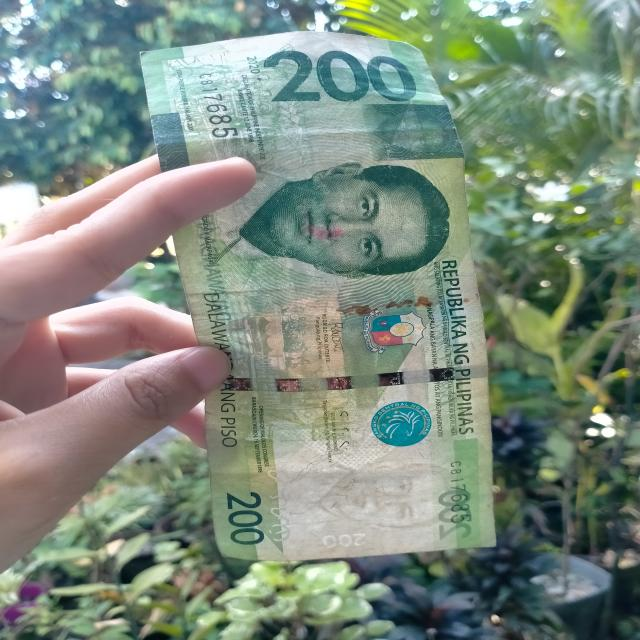concealed_value: (358, 104, 464, 159)
security_thread: (207, 366, 502, 389)
see_through_mark: (261, 459, 299, 544)
serial_number: (191, 67, 240, 146), (442, 454, 479, 534)
value: (263, 53, 419, 107)
value_watermark: (312, 529, 366, 548)
watermark: (289, 453, 452, 532)
